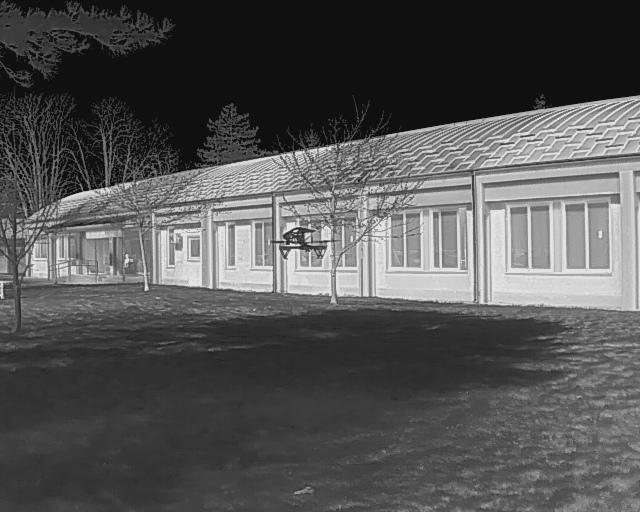drone: (268, 222, 329, 262)
